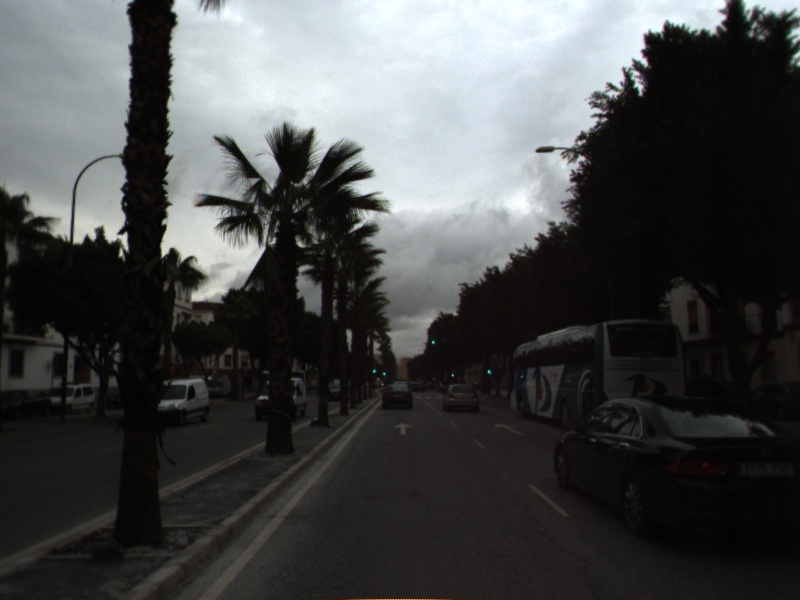STRAIGHT: (492, 421, 528, 439), (392, 420, 416, 437)
